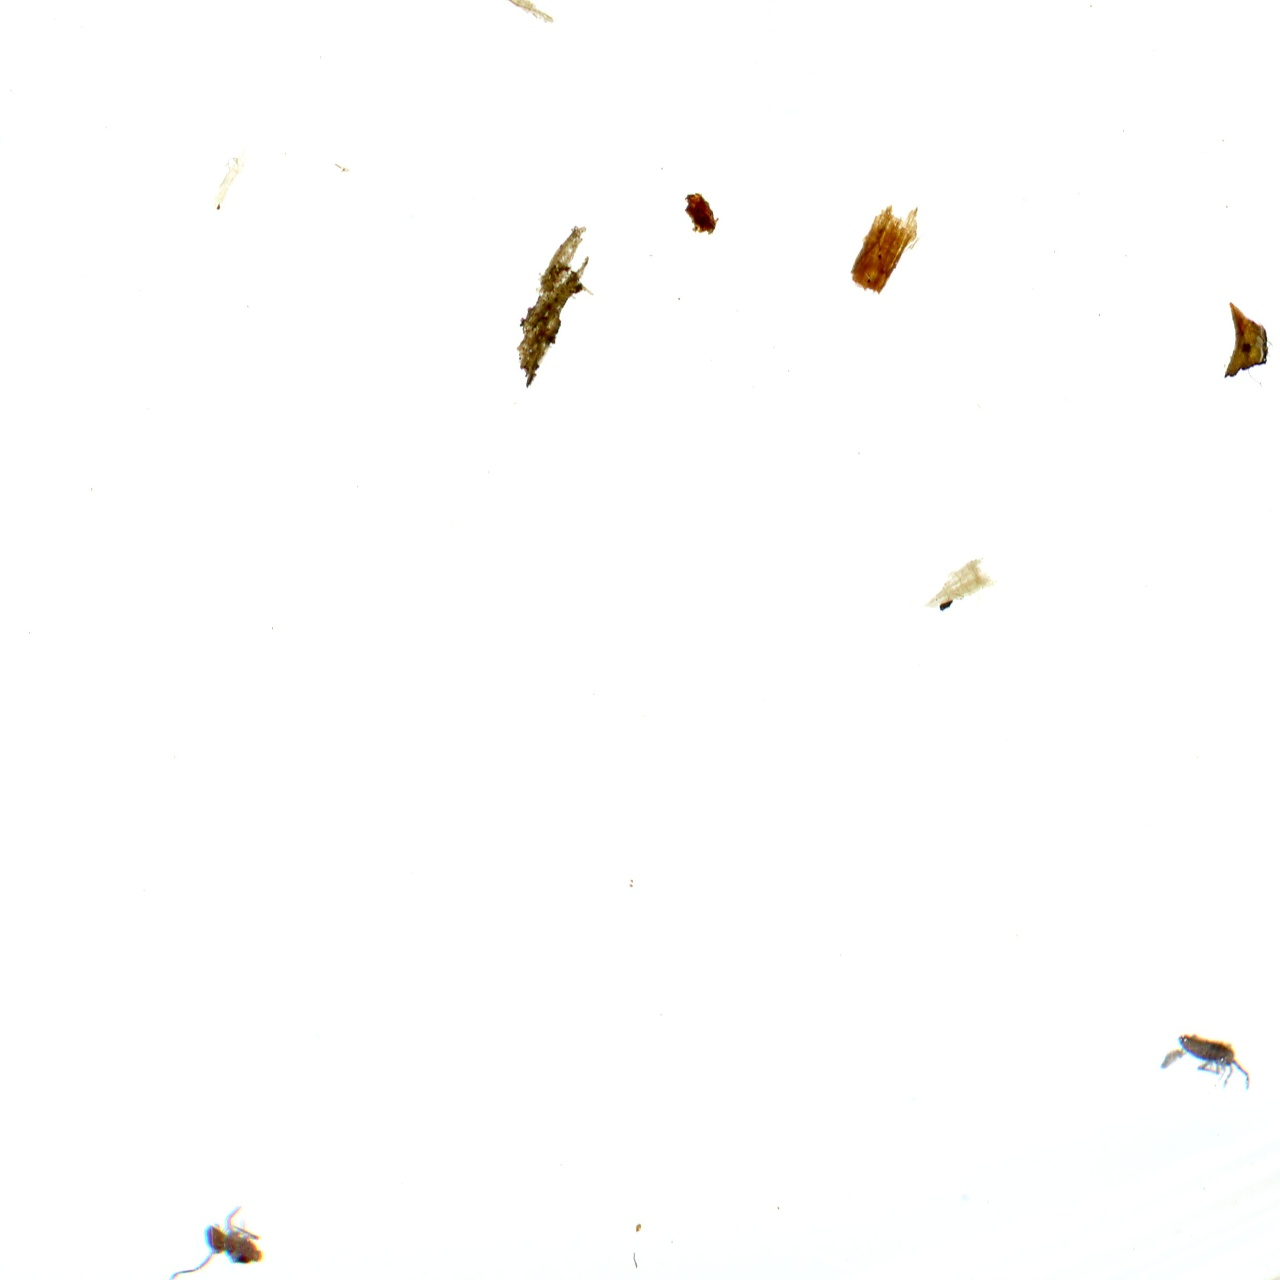arthropod: (164, 1201, 270, 1280), (1171, 1022, 1260, 1101)
